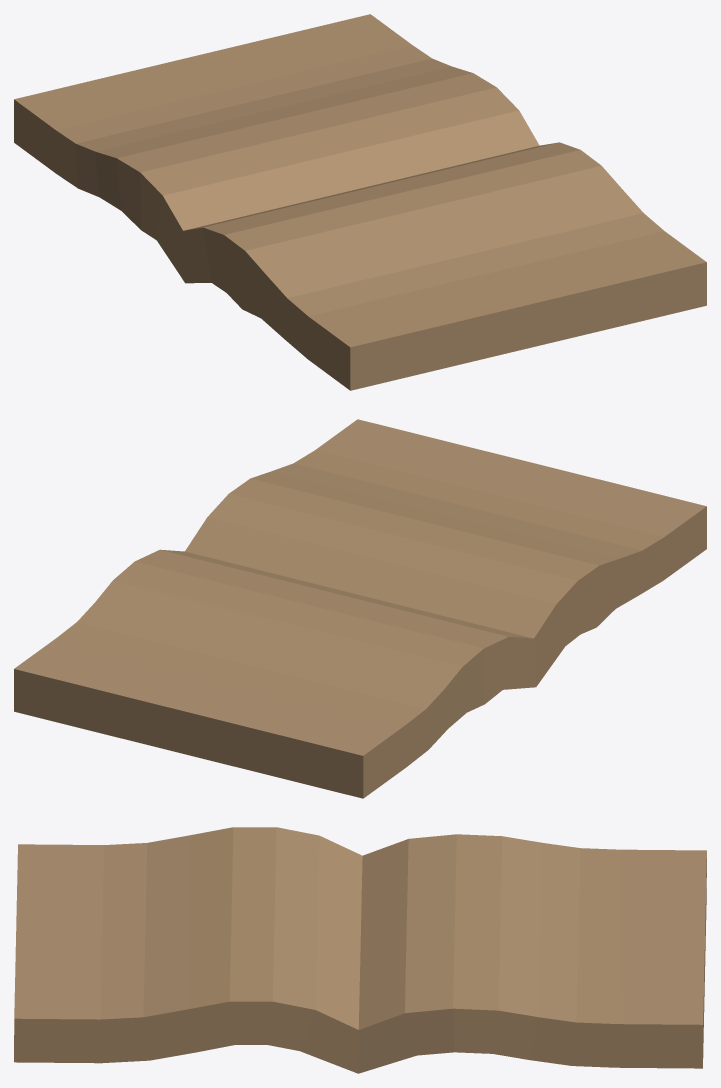
Rendered from corpoLibro.fbx.
3 views of the same model, one above another, from view 1: azimuth 30°, elevation 25°; view 2: azimuth 150°, elevation 25°; view 3: azimuth 270°, elevation 25° (orthographic).
Size of the model in its own units: 33.49 by 6.92 by 55.04.
